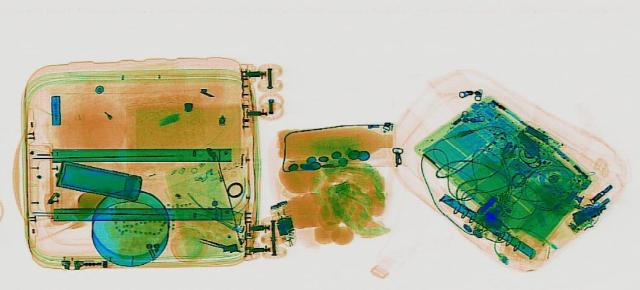Knife: (188, 233, 248, 253)
